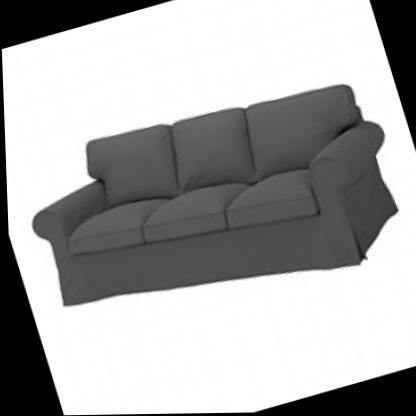Sofa: (2, 59, 416, 348)
